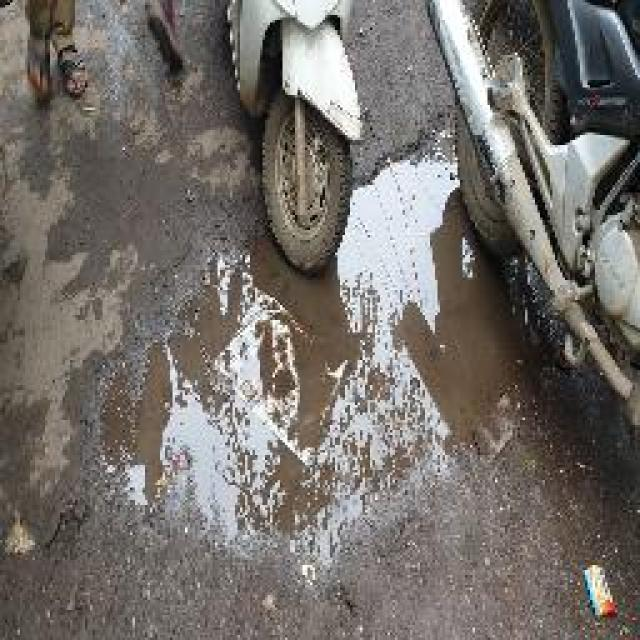stagnation: (70, 264, 487, 580)
